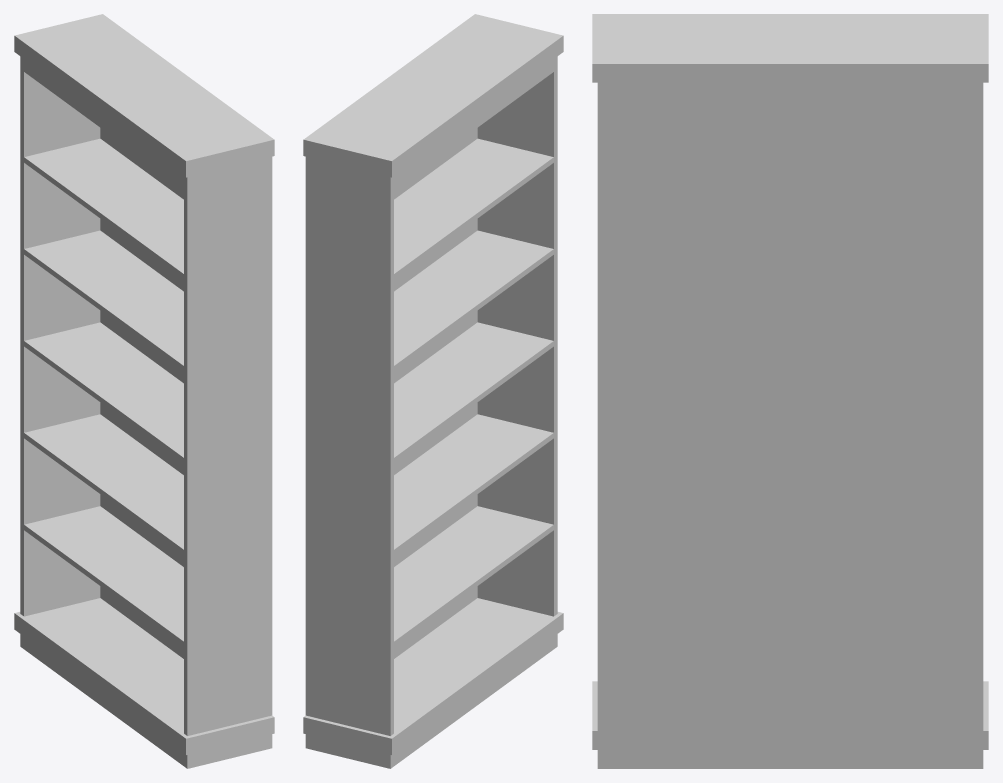
Rendered from Bookcase04.fbx.
3 views of the same model, side by side, from view 1: azimuth 30°, elevation 25°; view 2: azimuth 150°, elevation 25°; view 3: azimuth 270°, elevation 25° (orthographic). The views are drawn at different scales.
Visible parts, largest first — view 1: Bookcase04; view 2: Bookcase04; view 3: Bookcase04.
Part boxes in pixels (<box>): Bookcase04: <box>14,14,274,768</box>; Bookcase04: <box>303,14,563,768</box>; Bookcase04: <box>592,14,988,768</box>.
Size of the model in its own units: 0.2821 by 0.9482 by 1.86.
